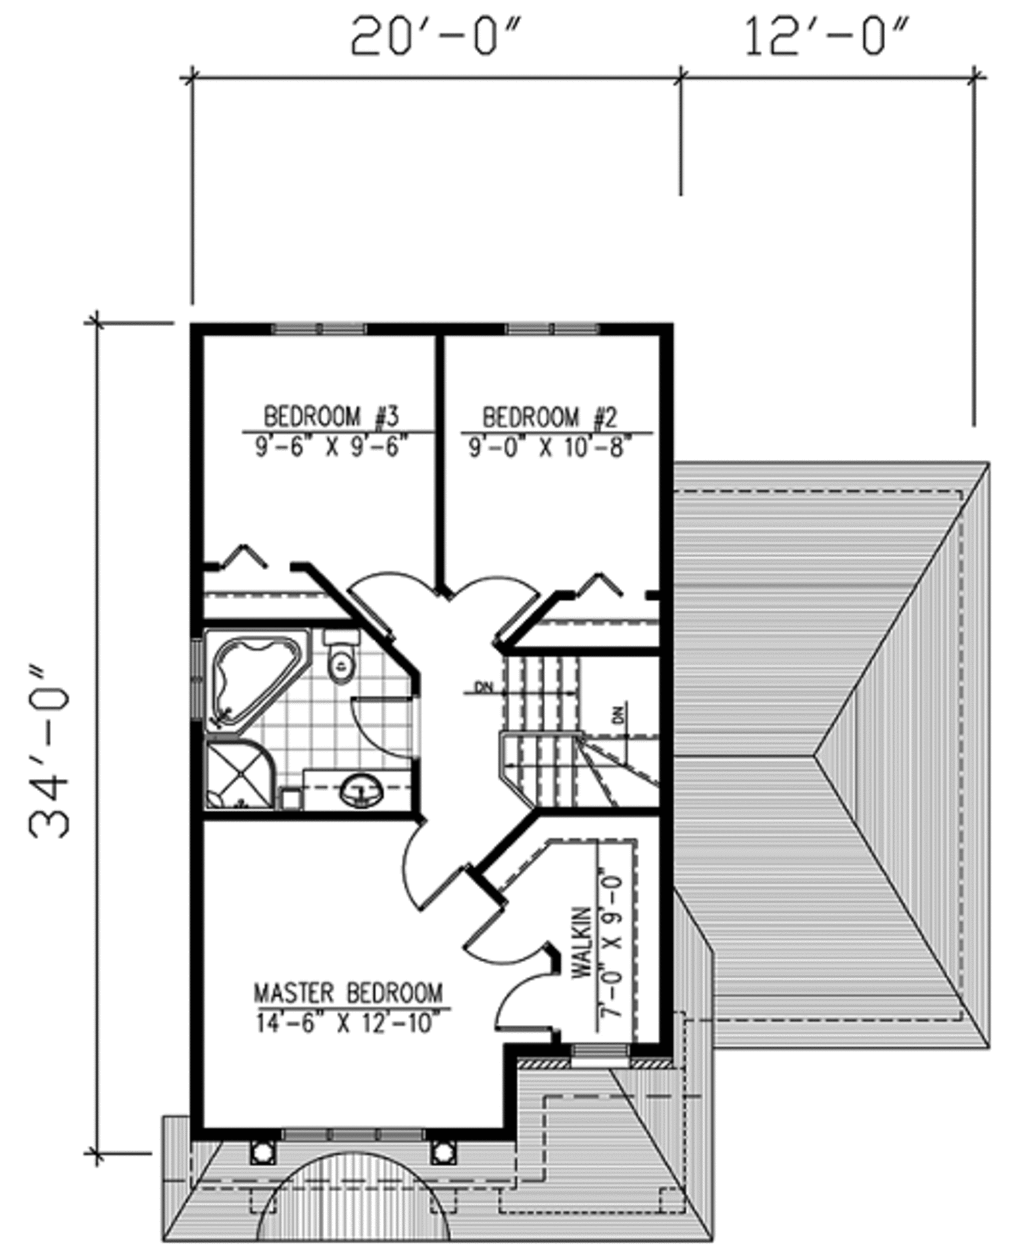door: (345, 565, 441, 635), (450, 570, 542, 640), (460, 903, 553, 971), (399, 822, 462, 915), (344, 694, 426, 764), (491, 973, 556, 1036)
large_sink: (314, 627, 366, 692)
small_sink: (300, 770, 412, 811)
stairs: (467, 653, 661, 813)
tub: (208, 624, 307, 739)
window: (275, 1116, 427, 1147), (265, 322, 363, 340), (491, 319, 601, 335), (564, 1041, 632, 1066)
